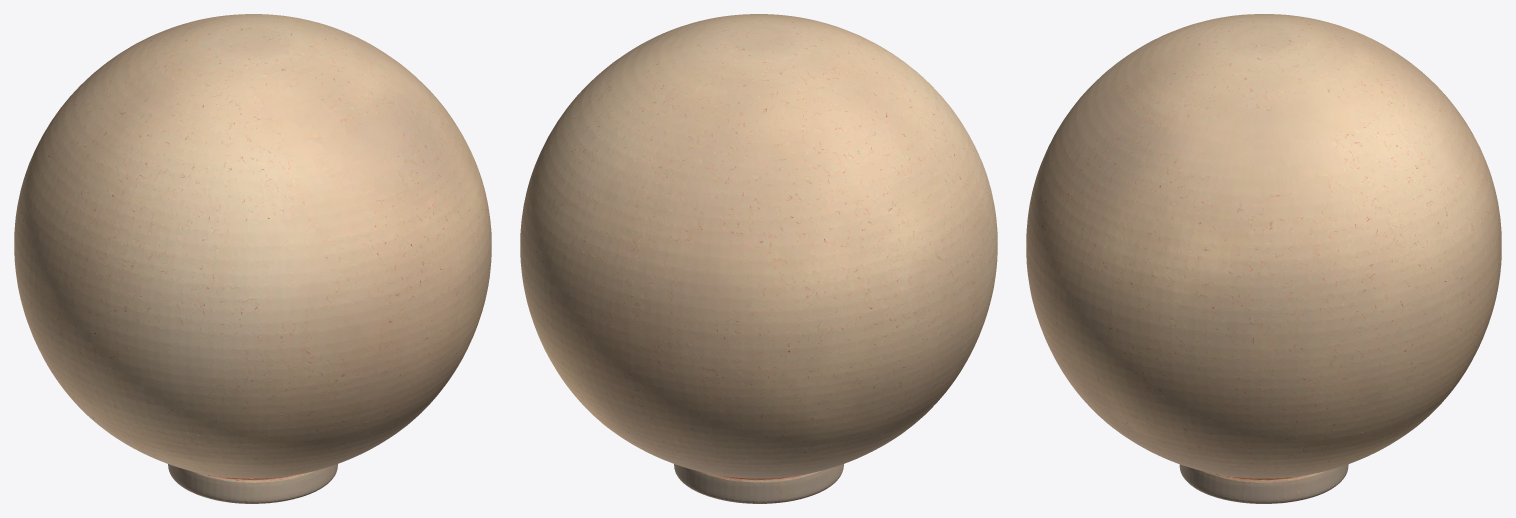
Rendered from designer_bedside_lamp.glb.
The picture shows the model from 3 angles, left to right: view 1: azimuth 30°, elevation 25°; view 2: azimuth 150°, elevation 25°; view 3: azimuth 270°, elevation 25°; orthographic projection.
Visible parts, largest first — view 1: world; view 2: world; view 3: world.
Boxes of the visible parts, x1,y1,x2,y2 form: world: (14,14,491,503); world: (520,14,997,503); world: (1026,14,1501,503).
Size of the model in its own units: 0.3 by 0.3 by 0.3.
1 material, 1 textured.
